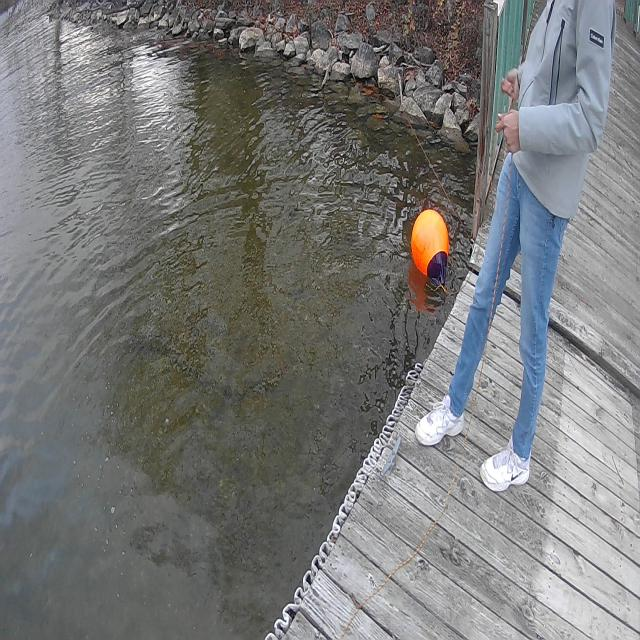Buoy: (408, 198, 452, 296)
